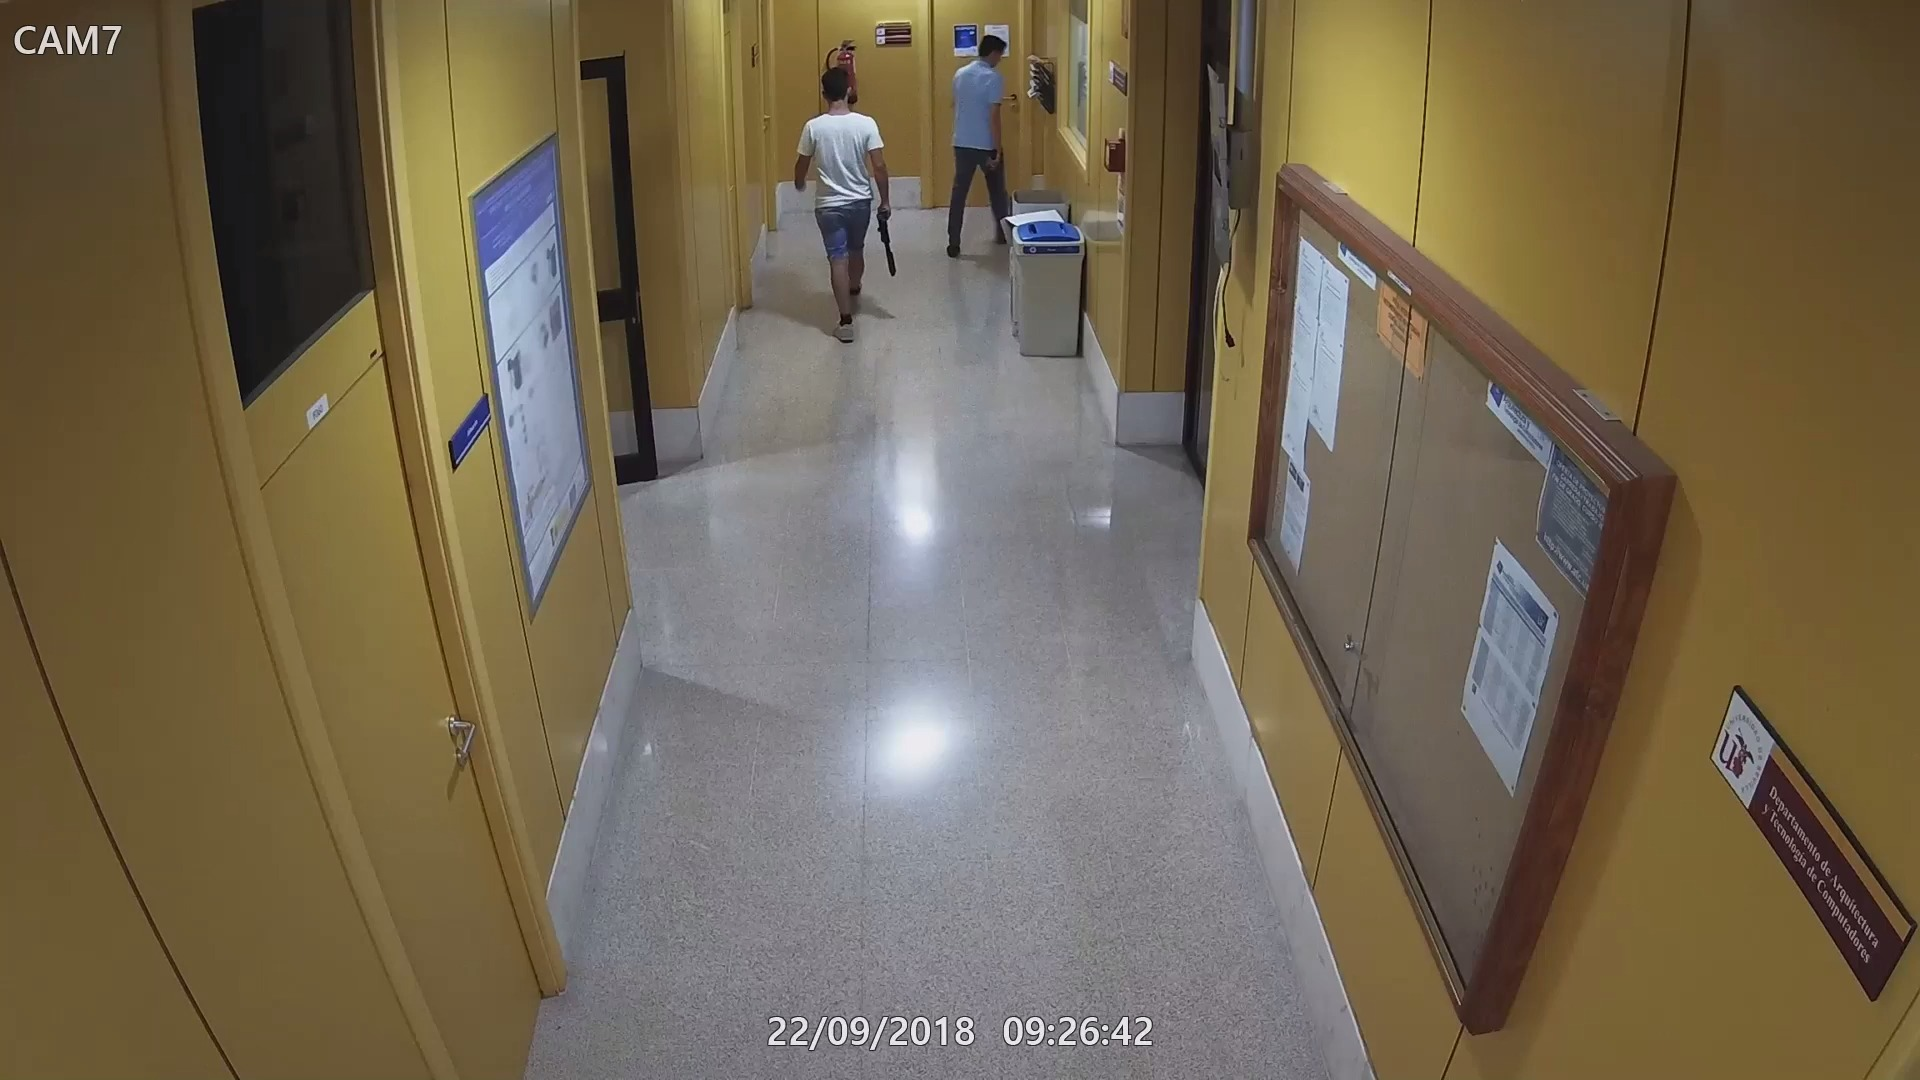Short_rifle: (872, 202, 899, 277)
